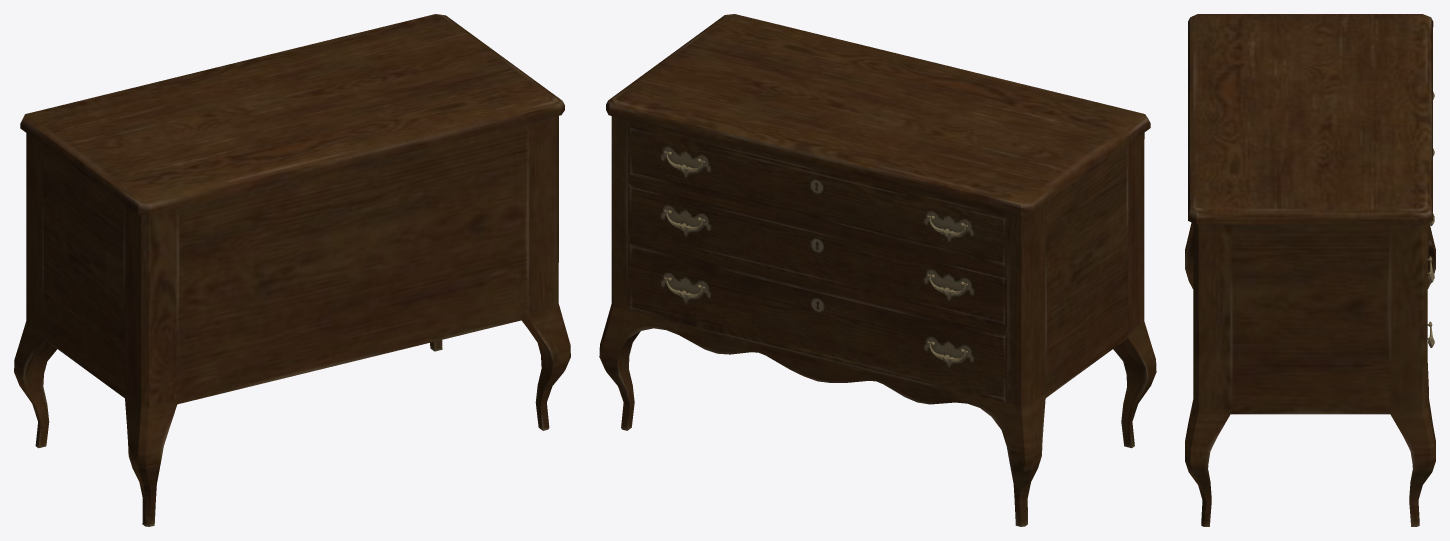
File: chest-commode.glb
3 renders of one model, left to right at view 1: azimuth 30°, elevation 25°; view 2: azimuth 150°, elevation 25°; view 3: azimuth 270°, elevation 25°, orthographic. The views are drawn at different scales.
Parts seen in each view (by area): view 1: chest-commode; view 2: chest-commode; view 3: chest-commode.
Boxes of the visible parts, left/top/right/bottom form: chest-commode: left=14, top=14, right=570, bottom=526; chest-commode: left=599, top=14, right=1156, bottom=526; chest-commode: left=1185, top=14, right=1435, bottom=526.
Size of the model in its own units: 1.01 by 0.7374 by 0.5245.
Materials: 1 (1 with a texture image).
